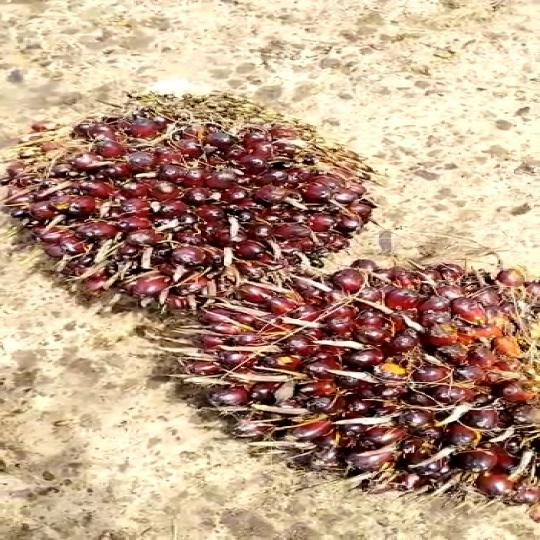kurang masak: (141, 248, 540, 515), (0, 79, 377, 324)
